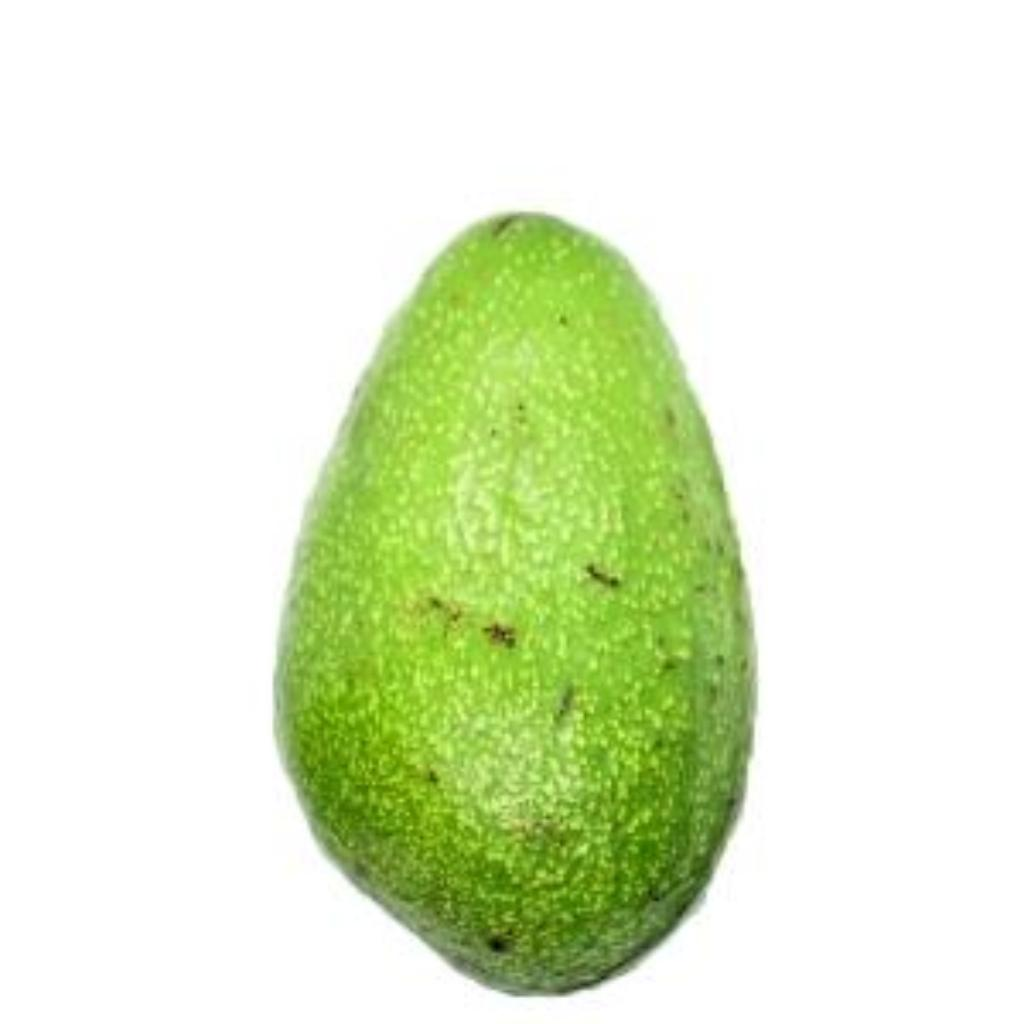cercospora_spot: (224, 159, 838, 1019)
